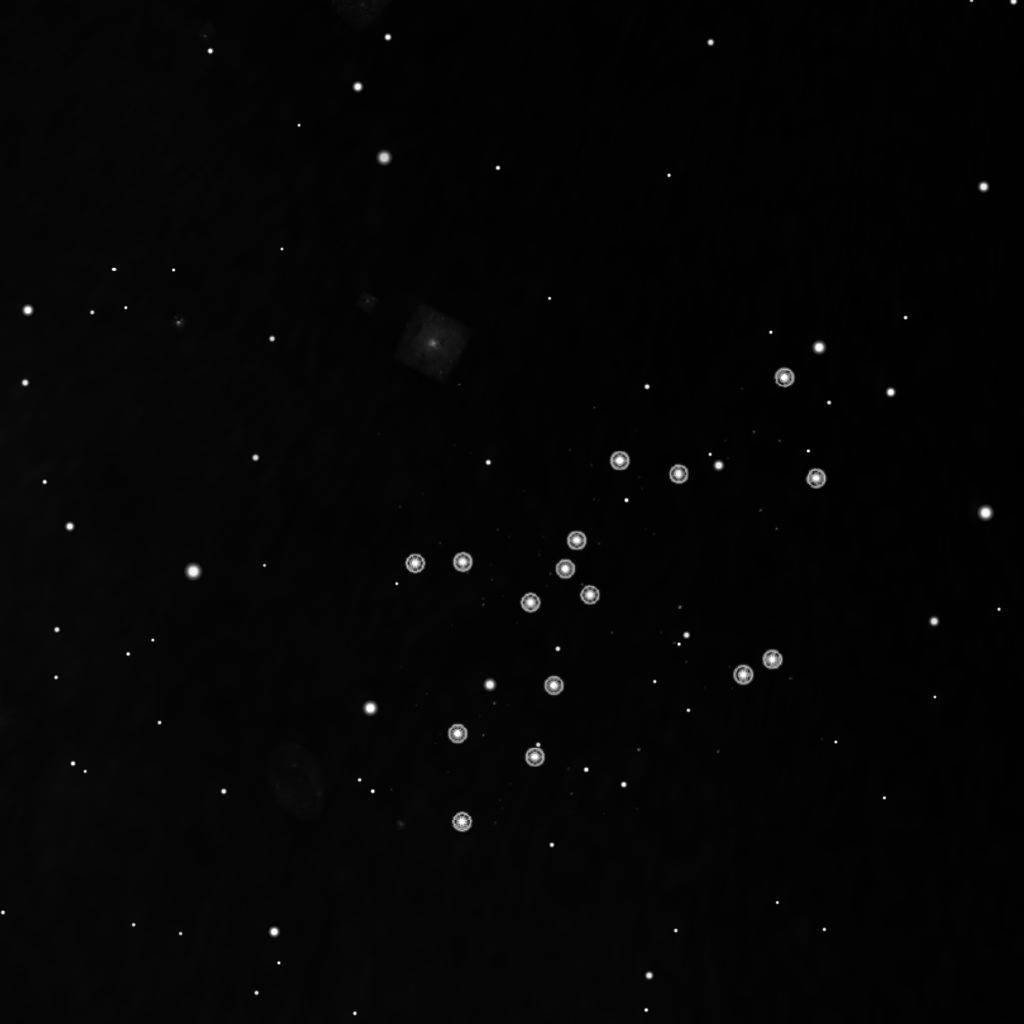canis_major: (513, 448, 697, 620)
